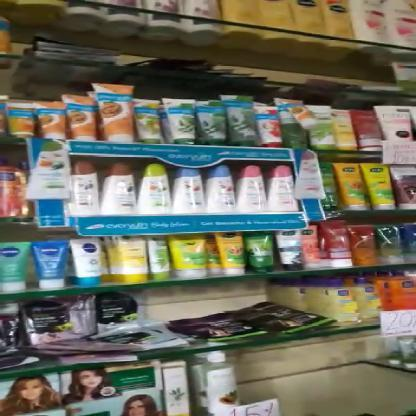Everyuth Naturals Body Lotion Nourishing Cocoa 200ml: (102, 160, 142, 214), (74, 158, 100, 218)
Everyuth Naturals Body Lotion Rejuvenating Flora 200ml: (270, 163, 300, 214), (242, 162, 265, 210)
Everyuth Naturals Body Lotion Soothing Citrus 200ml: (138, 161, 173, 213)
Everyuth Naturals Body Lotion Sun Care Berries SPF 15 200ml: (174, 167, 214, 214), (206, 162, 242, 214)
